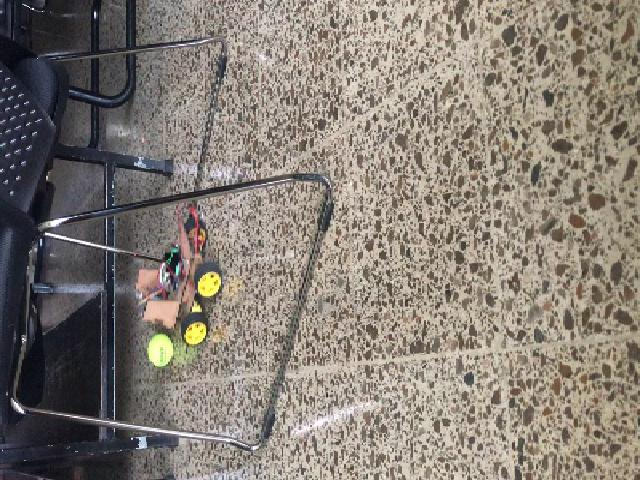Ball: (146, 334, 173, 366)
Robot: (138, 216, 222, 344)
